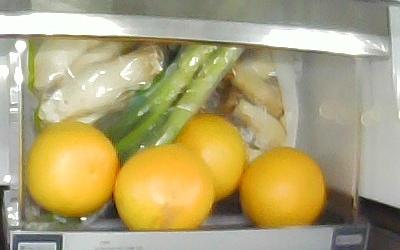grapefruit: (112, 142, 216, 229), (25, 119, 118, 215), (239, 145, 325, 226), (172, 111, 245, 202)
